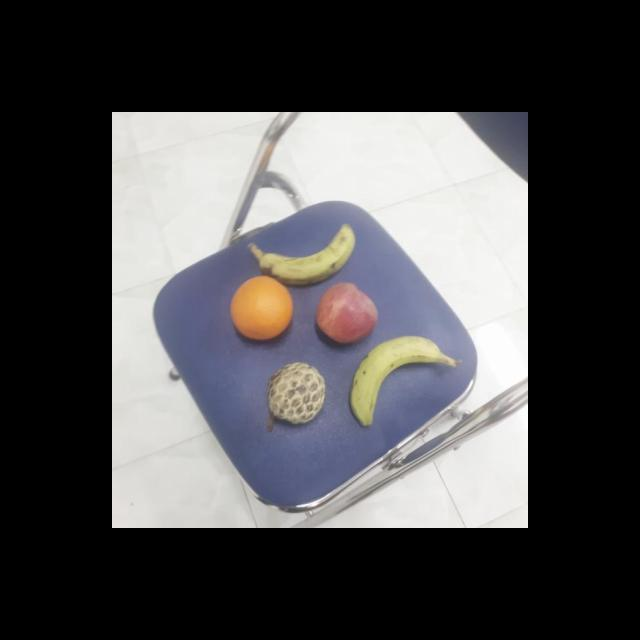Sakya fruit: (264, 360, 330, 423)
apple: (314, 281, 384, 343)
banana: (346, 334, 442, 428), (256, 219, 363, 286)
orange: (230, 272, 294, 340)
